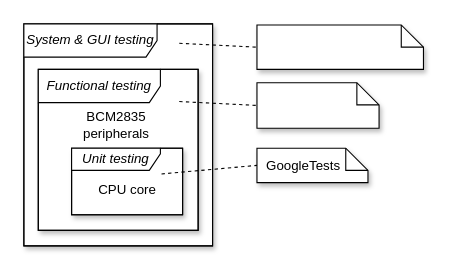
The diagram is 450 pixels wide and 273 high, and some of its shapes have lost their labels. The shapes that lost their labels are listed below. From the top down, each one's centre as x and y in pixels, then its label:
At (x=340, y=48): "Performed by students within the KIV/OS class".
At (x=318, y=106): "Set of example programs".
